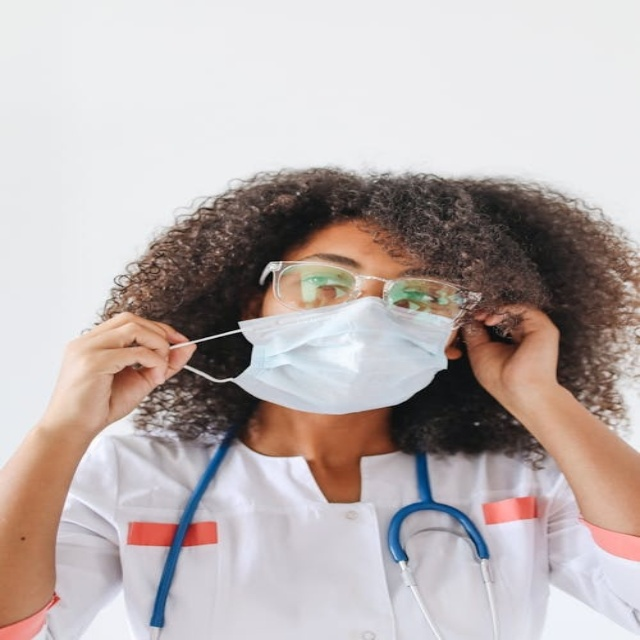Gafas: (258, 261, 477, 326)
Mascara: (216, 293, 458, 413)
Sin_guantes: (37, 307, 202, 439), (458, 300, 573, 411)
